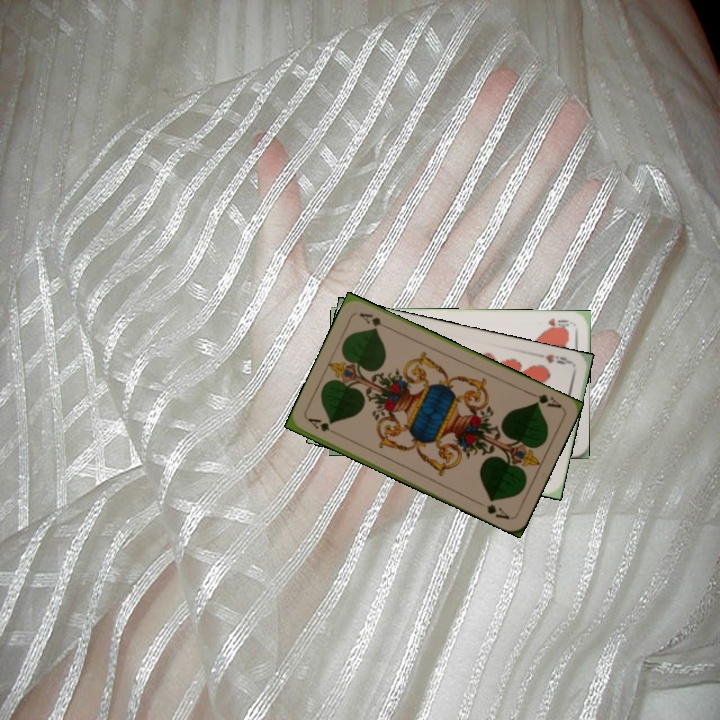GA: (304, 414, 342, 439), (525, 388, 564, 411)
H9: (541, 350, 575, 367)
HO: (542, 314, 574, 333)
